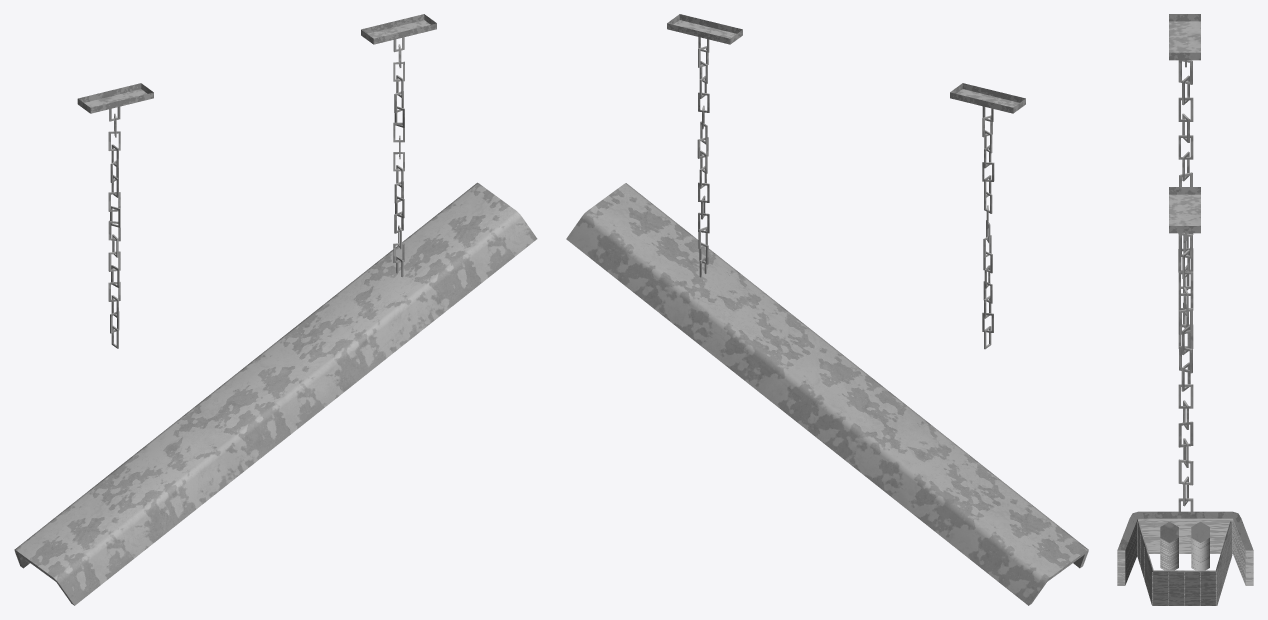
Rendered from 012_Light_Ceiling_B.FBX.
3 renders of one model, left to right at view 1: azimuth 30°, elevation 25°; view 2: azimuth 150°, elevation 25°; view 3: azimuth 270°, elevation 25°, orthographic. The views are drawn at different scales.
Visible parts, largest first — view 1: 012_Light_Ceiling_B; view 2: 012_Light_Ceiling_B; view 3: 012_Light_Ceiling_B.
Boxes of the visible parts, x1,y1,x2,y2 form: 012_Light_Ceiling_B: (14,14,537,605); 012_Light_Ceiling_B: (566,14,1088,605); 012_Light_Ceiling_B: (1117,14,1253,605).
Bounding box in the file's own units: 95.96 × 19.02 × 92.75.
